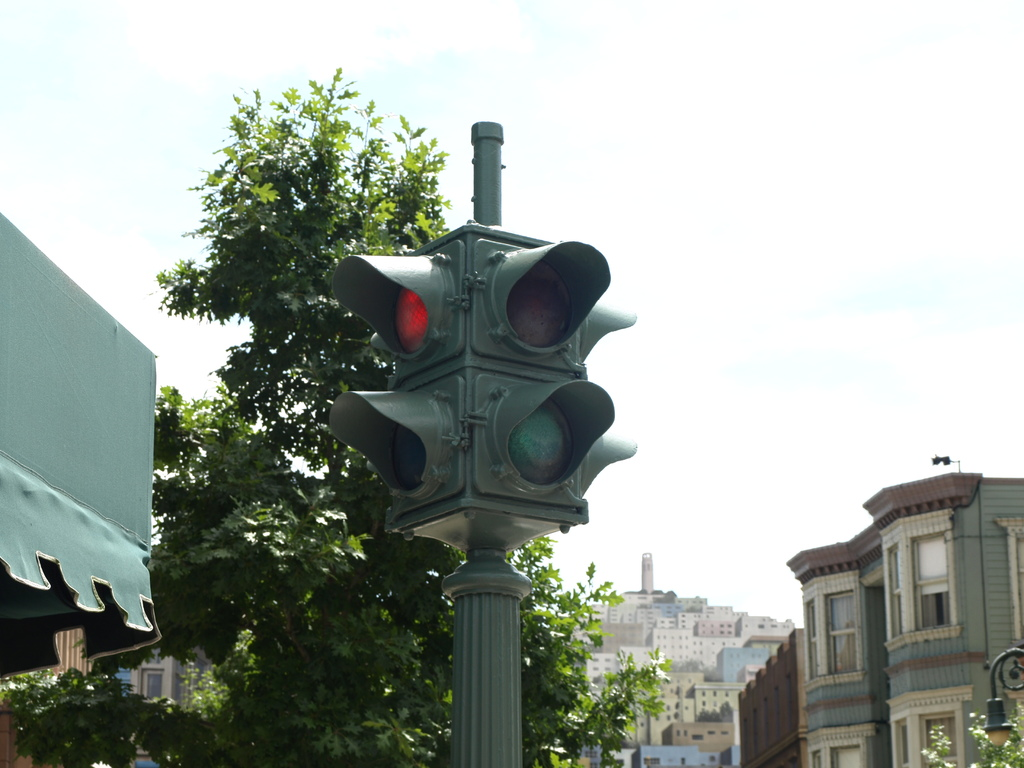red_light: (348, 254, 460, 501)
